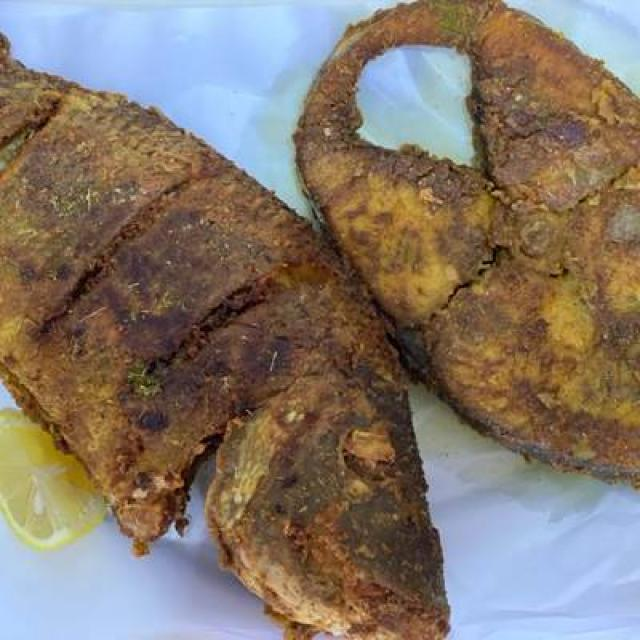Peixe: (0, 5, 451, 638), (290, 0, 638, 504)
